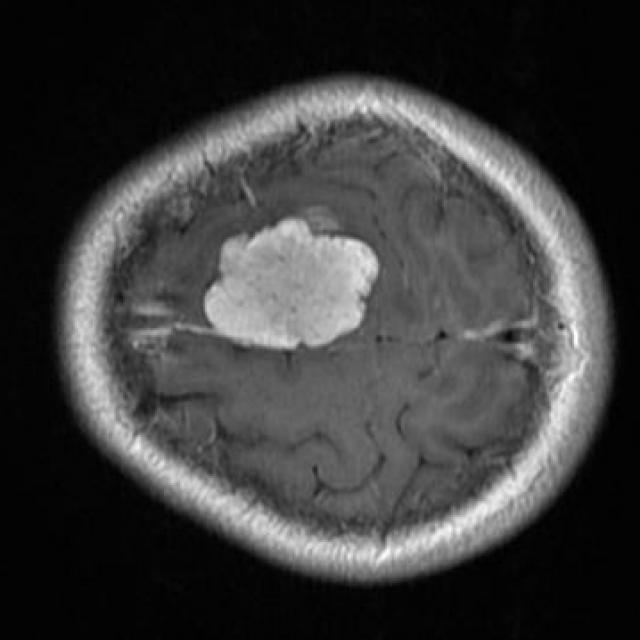meningioma: (205, 219, 378, 349)
